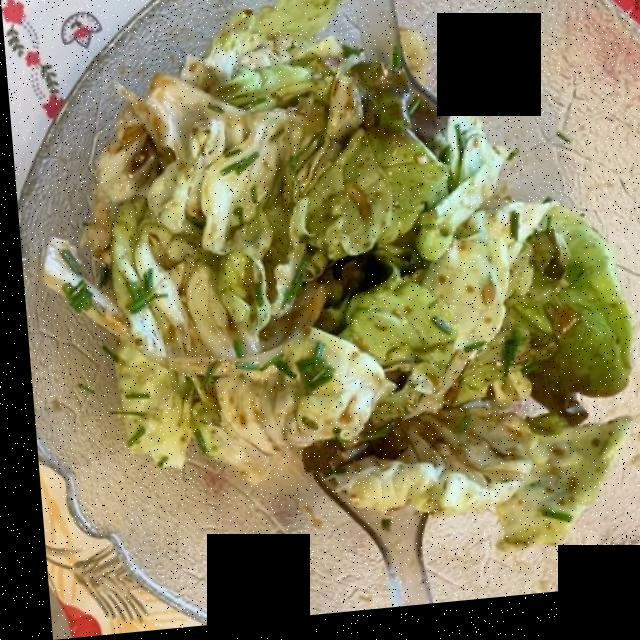chives: (39, 228, 336, 411)
italian-salad-dressing: (364, 301, 593, 472)
salad-leaf-salad-green: (67, 1, 617, 548)
